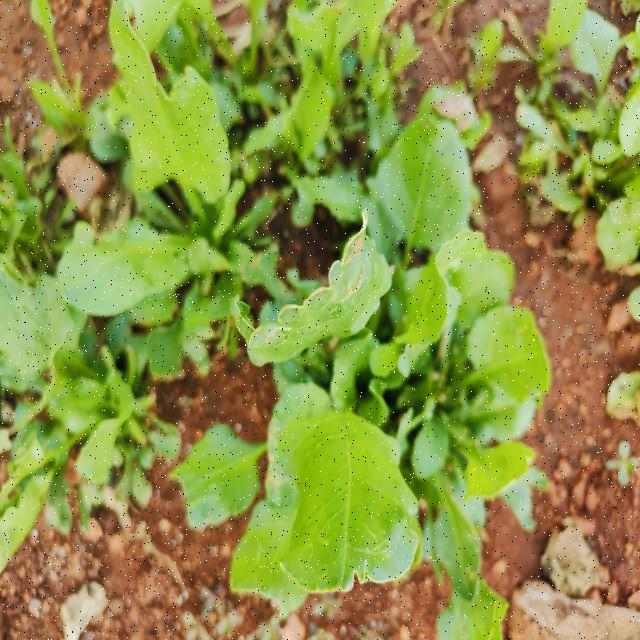leaves: (261, 385, 422, 640), (231, 213, 403, 393), (105, 3, 233, 235), (360, 91, 482, 283), (47, 219, 212, 345), (392, 236, 521, 378), (169, 419, 285, 550)
